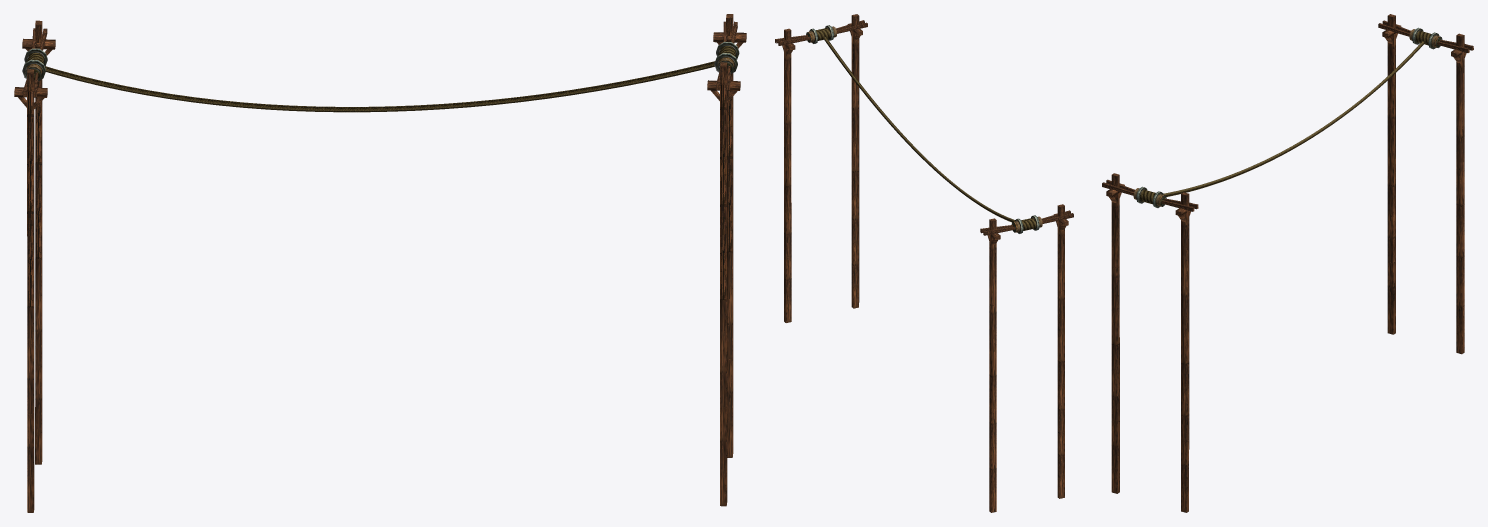
The model's file is RM_ROPE_POLES.obj.
The picture shows the model from 3 angles, left to right: view 1: azimuth 30°, elevation 25°; view 2: azimuth 150°, elevation 25°; view 3: azimuth 270°, elevation 25°; orthographic projection. The views are drawn at different scales.
Visible parts, largest first — view 1: RM_rope_pole, RM_rope_pole01, Line01; view 2: RM_rope_pole01, RM_rope_pole, Line01; view 3: RM_rope_pole, RM_rope_pole01, Line01.
Part boxes in pixels (x1,y1,x2,y2): RM_rope_pole: (14,20,55,512); RM_rope_pole01: (707,14,746,506); Line01: (44,61,715,112); RM_rope_pole01: (775,14,867,322); RM_rope_pole: (980,204,1073,512); Line01: (823,37,1014,222); RM_rope_pole: (1378,14,1473,354); RM_rope_pole01: (1102,173,1198,512); Line01: (1163,41,1424,196).
Bounding box in the file's own units: 1364 × 1036 × 1042.
